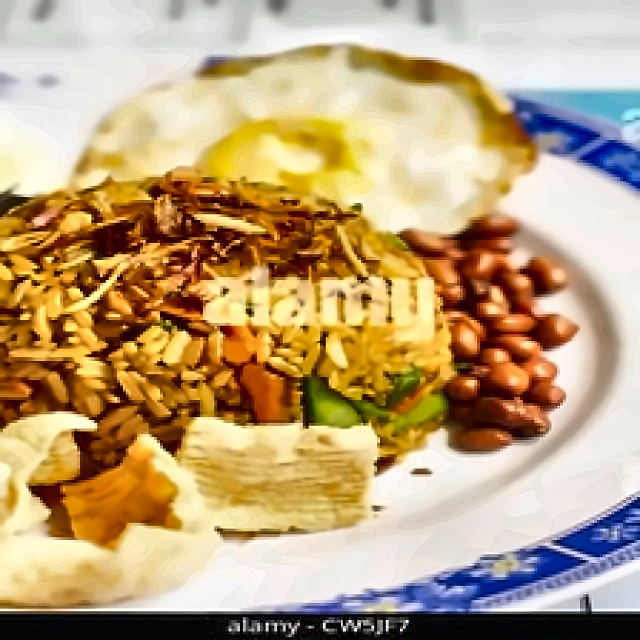egg: (0, 17, 509, 223)
rice: (0, 191, 414, 434)
